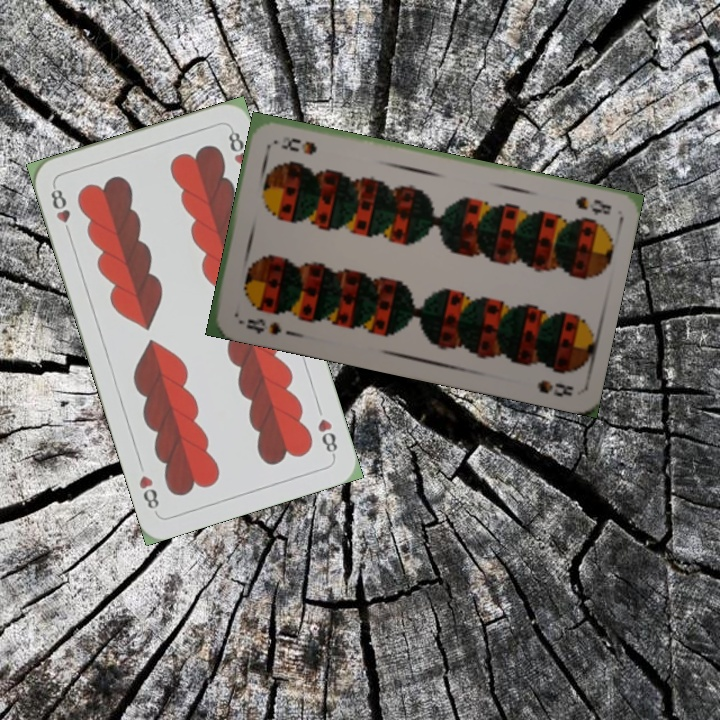H8: (46, 181, 74, 239), (313, 414, 340, 459)
S8: (571, 192, 614, 218), (242, 314, 284, 337)
